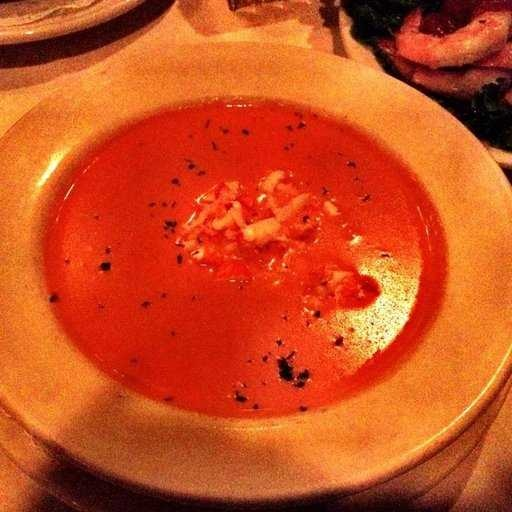soup: (30, 93, 432, 418)
